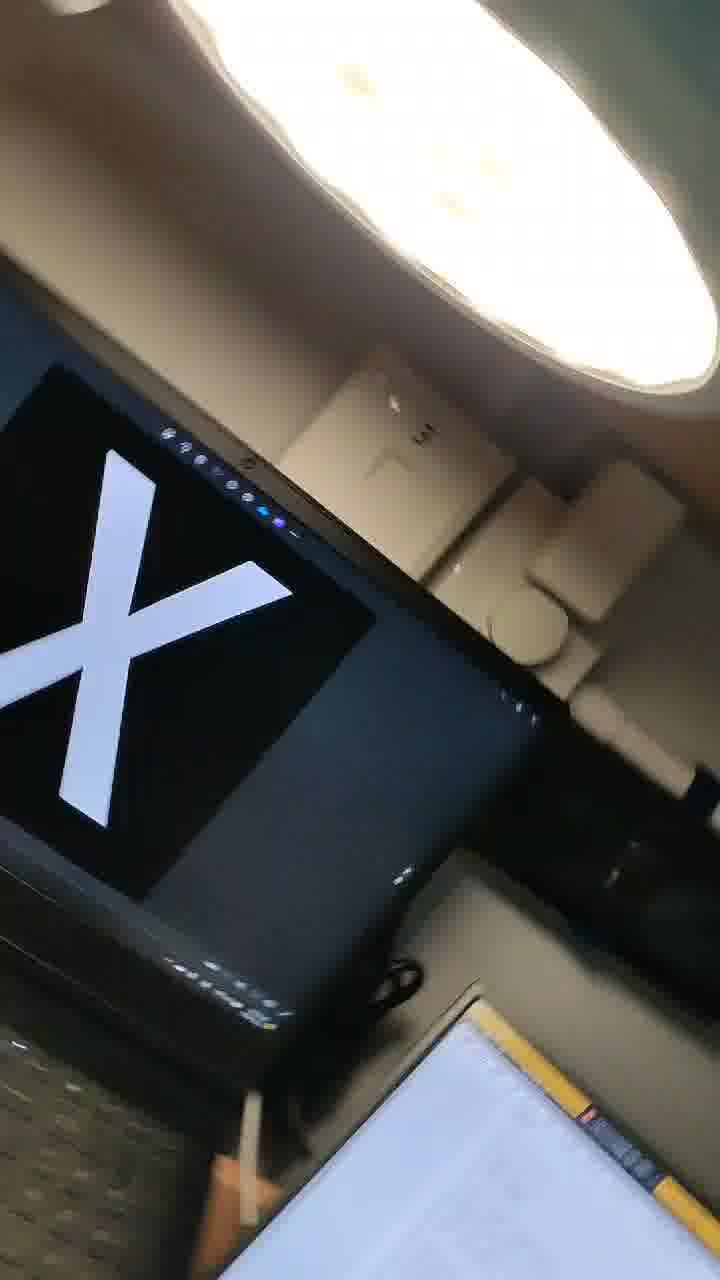X: (2, 397, 320, 896)
